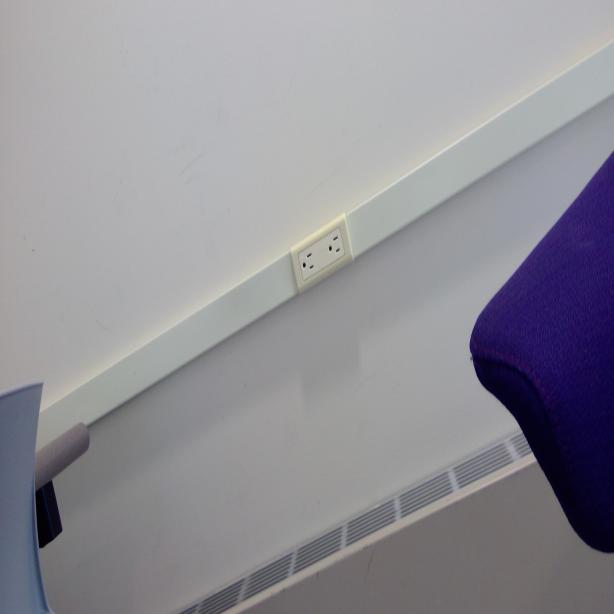typeb: (300, 247, 318, 277), (325, 232, 343, 258)
